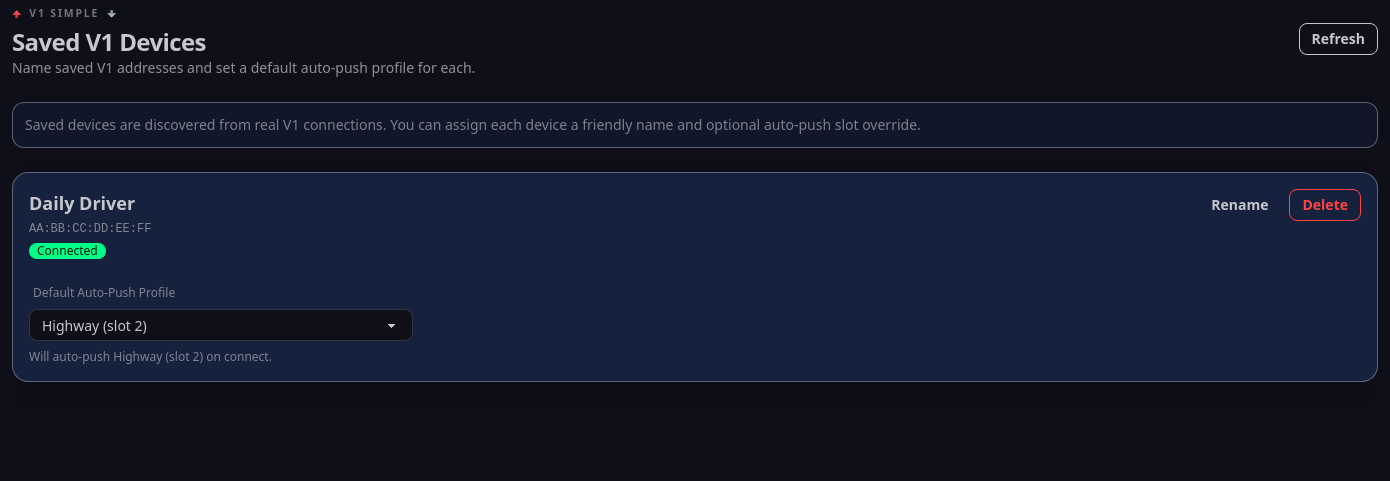
Test: devices route page › restores the saved default profile when saving the override fails
Expected: the heading "Daily Driver" is shown, left=29, top=189, right=151, bottom=217
Select "Default (slot 1)" in the dropdown. click: (221,325)
box: left=29, top=309, right=413, bottom=341
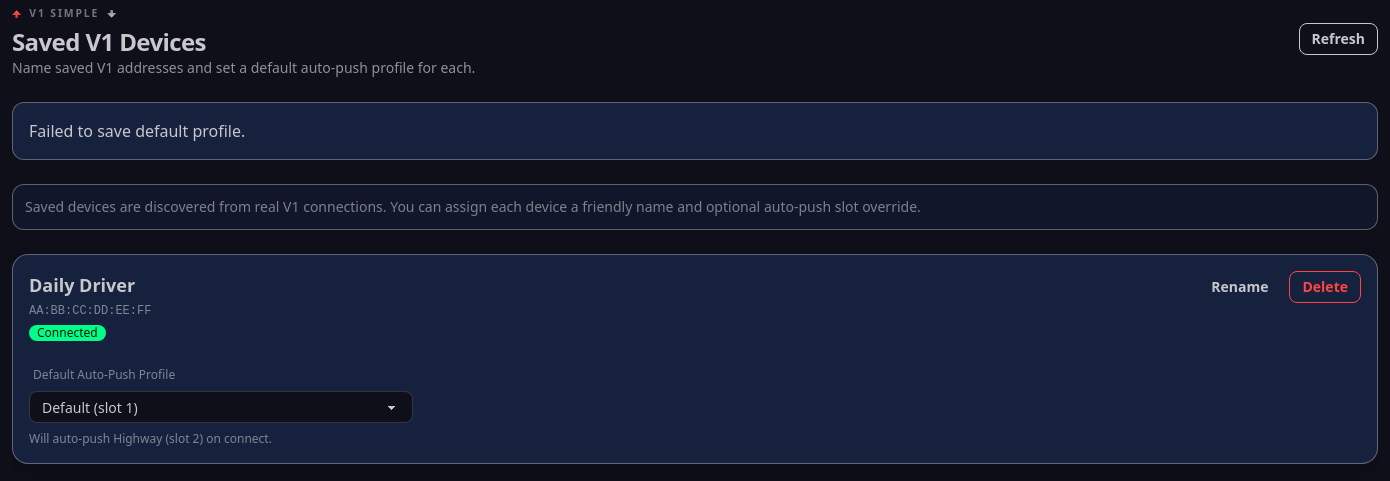
Expected: the text "Will auto-push Highway (slot 2) on connect." is shown, left=29, top=430, right=272, bottom=447
Now the text "Failed to save default profile." is shown, box left=29, top=119, right=245, bottom=143
